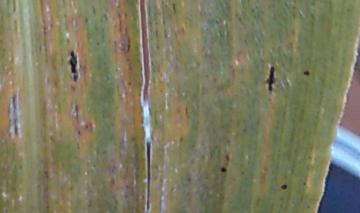tarspot: (66, 50, 83, 82), (264, 64, 277, 94), (123, 77, 133, 89), (218, 165, 228, 174), (278, 183, 289, 191), (223, 152, 231, 163), (171, 2, 177, 15), (301, 69, 310, 77), (177, 135, 184, 143), (75, 129, 82, 135)
